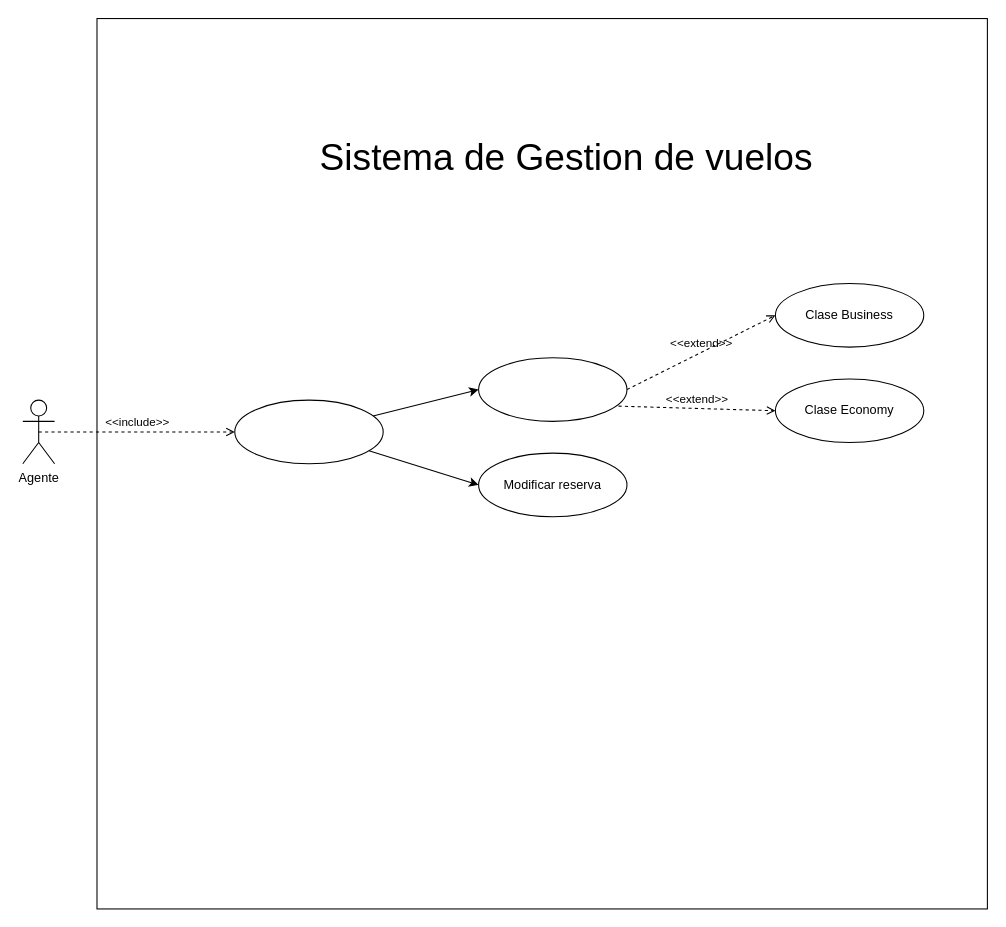
Image size: 1006x927. Some labels were removed from this diagram. Here are the shapes that lost their labels. From the top down, the centre of each, then its label:
the point at 552,389: Realizar reserva
the point at 308,431: Comprobar asientoss
